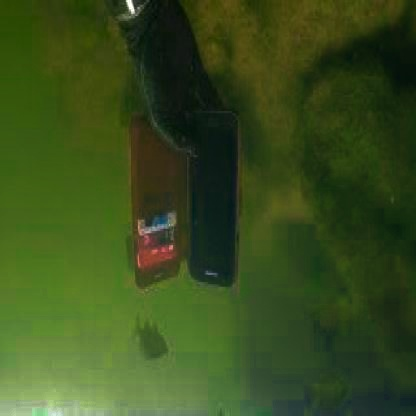cellphone: (187, 109, 238, 291)
